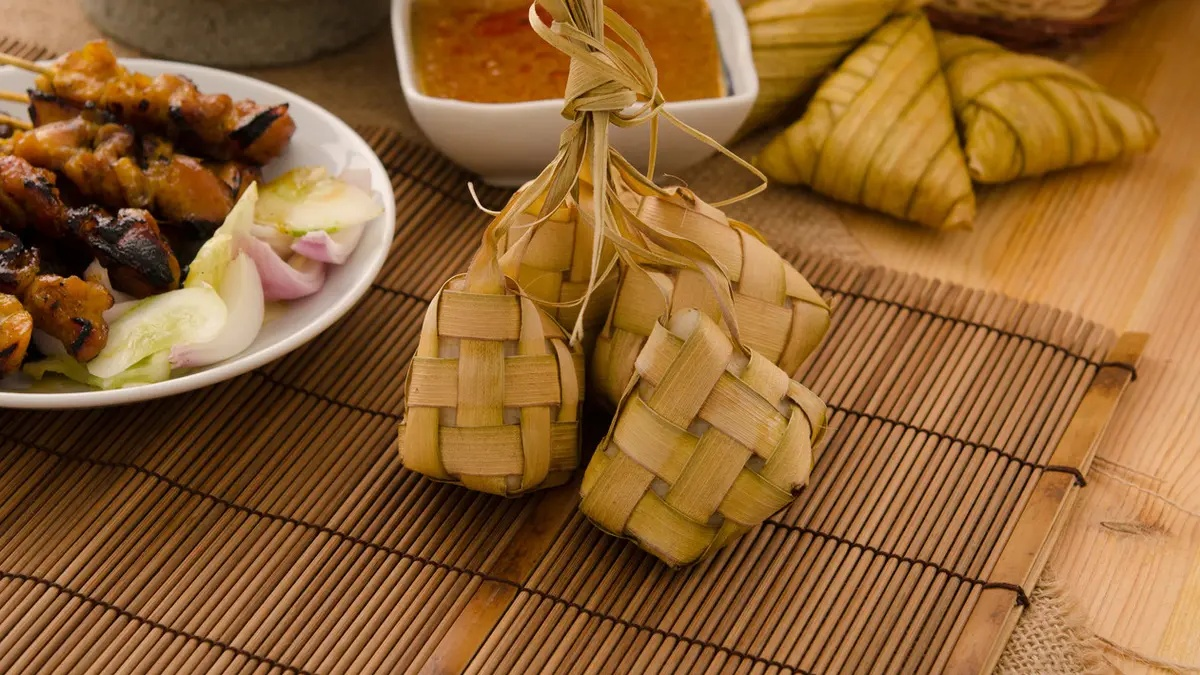ketupat: (576, 307, 825, 573), (395, 272, 581, 501)
